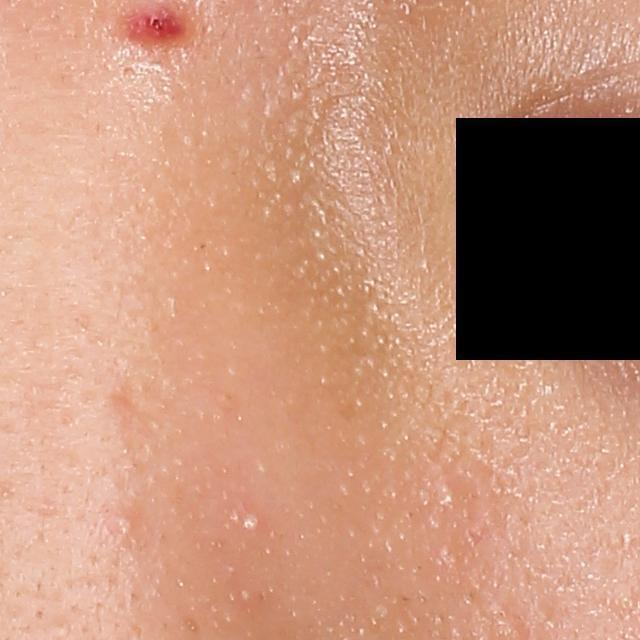comedo: (433, 475, 463, 508)
papule: (114, 4, 195, 49)
pustule: (235, 508, 264, 538)
